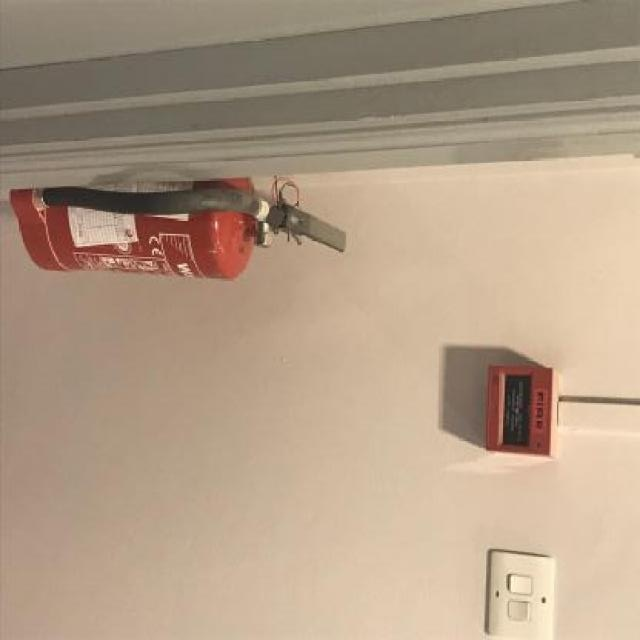fire extinguisher: (6, 173, 349, 285)
